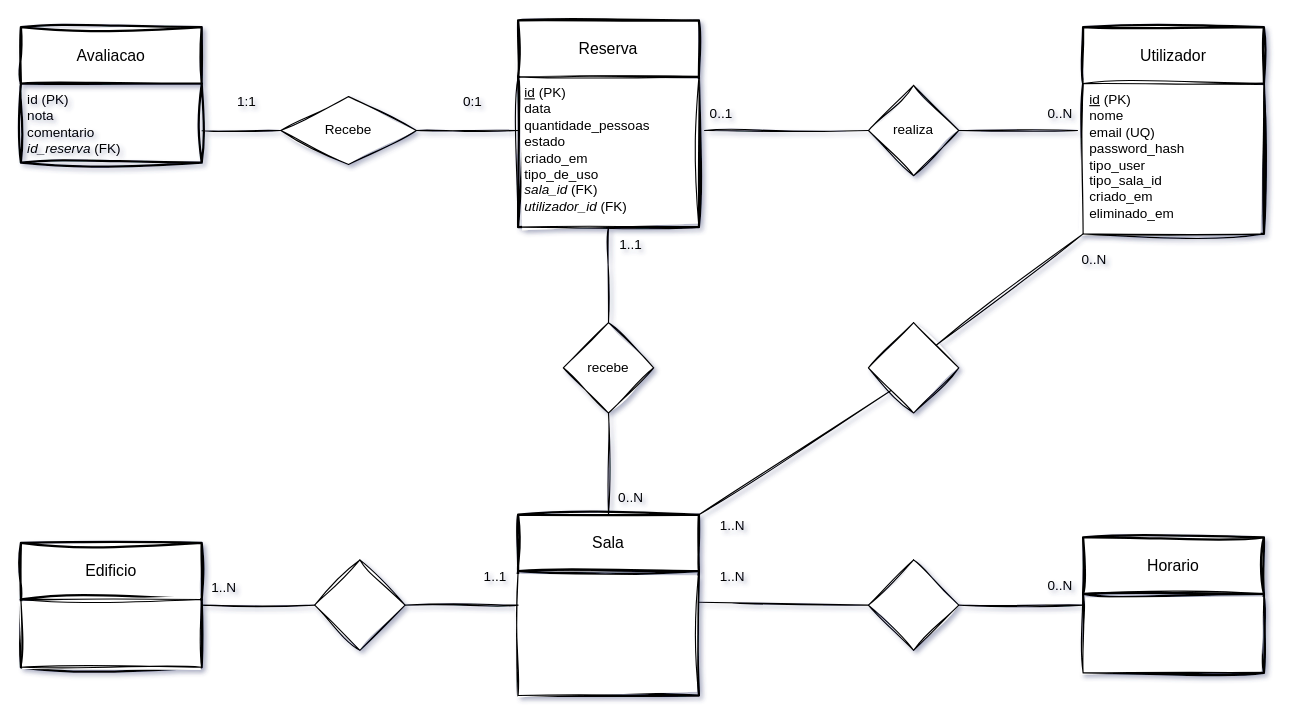
This 1290x723 diagram has some shape labels left out. Here are the shapes that lost their labels. From the top down, the centre of each, then its label:
pixel 913 367: administra
pixel 359 604: possui
pixel 913 604: tem
pixel 111 632: id (PK) nome imagem
pixel 608 633: id nome_numero capacidade_maxima tipo_sala piso edificio_id (FK)
pixel 1173 633: id (PK) hora_inicio hora_fim
